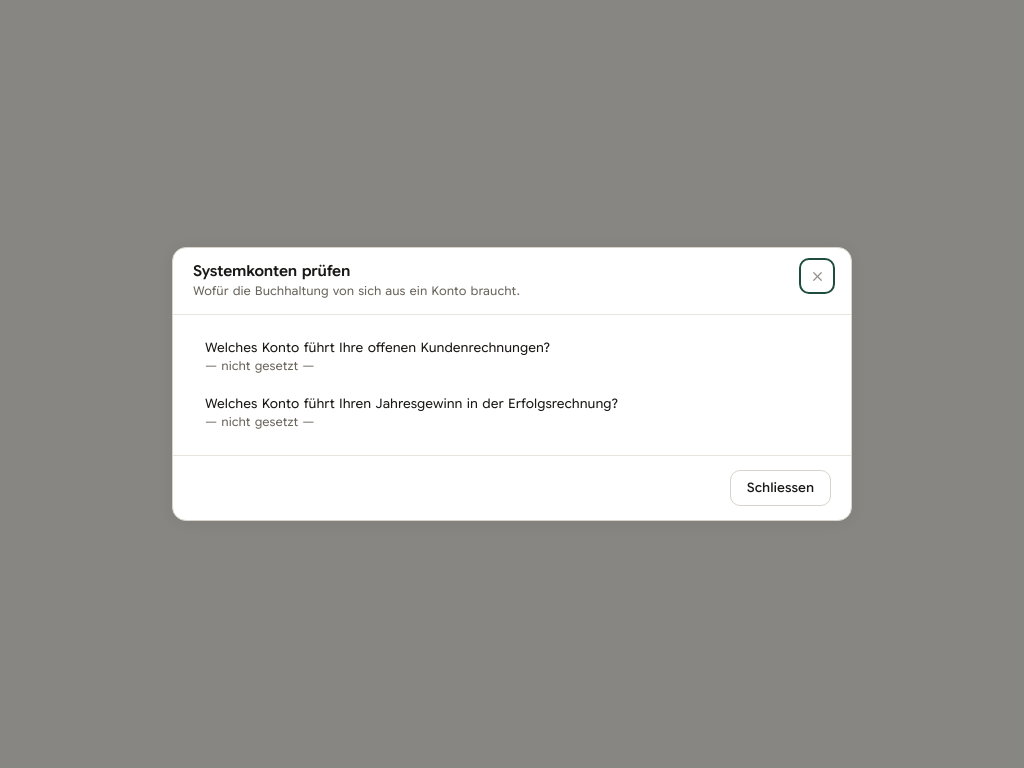
Test case: SystemAccountDialog › hidesTheAssignmentWithoutConfigureTest
The image size is (1024, 768).
Click the 3rd button at (512, 413), box [193, 387, 831, 439]
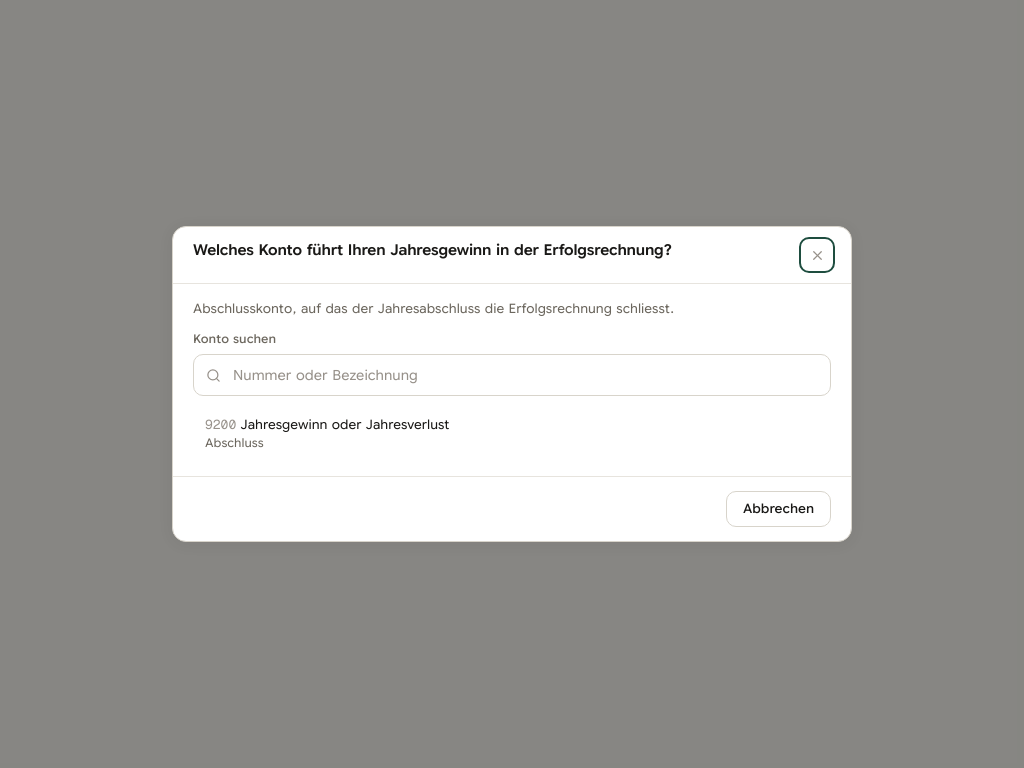
Now the text "9200" is shown, box [205, 416, 236, 433]
